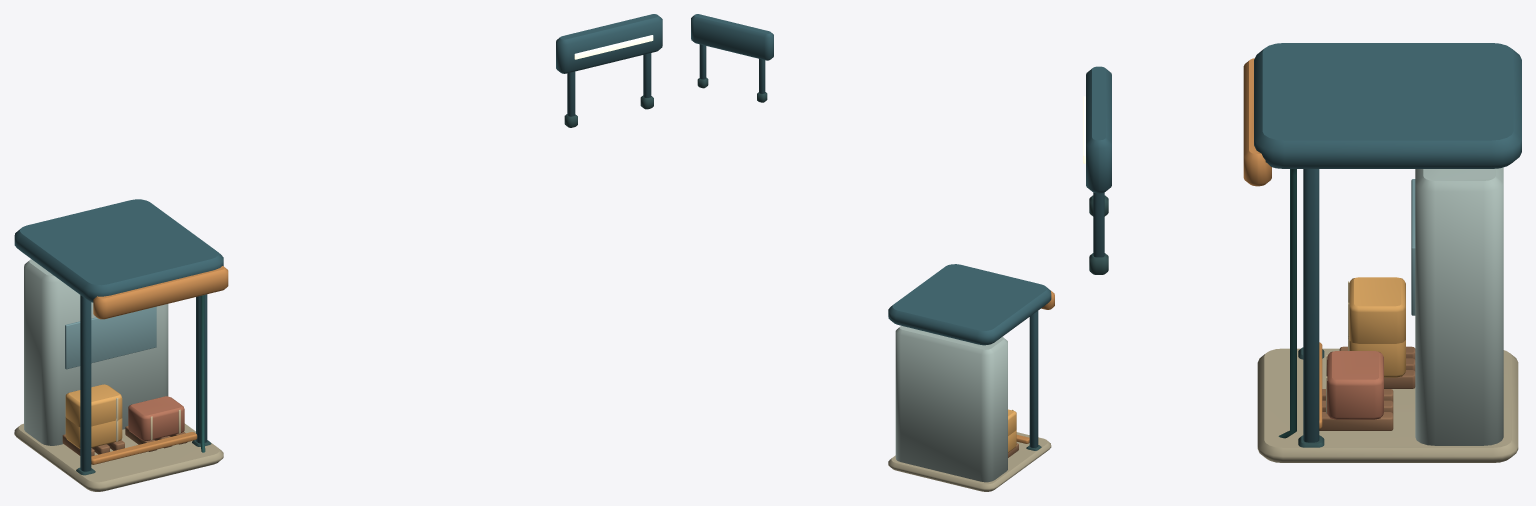
Rendered from harbor_terminal_4.glb.
3 views of the same model, side by side, from view 1: azimuth 30°, elevation 25°; view 2: azimuth 150°, elevation 25°; view 3: azimuth 270°, elevation 25° (orthographic). The views are drawn at different scales.
Parts seen in each view (by area): view 1: HarborTerminal4; view 2: HarborTerminal4; view 3: HarborTerminal4.
Boxes of the visible parts, box(x1,y1,x2,y2) form: HarborTerminal4: box(14, 14, 662, 491); HarborTerminal4: box(691, 14, 1054, 491); HarborTerminal4: box(1083, 43, 1521, 462).
Size of the model in its own units: 8.87 by 6.43 by 4.18.
